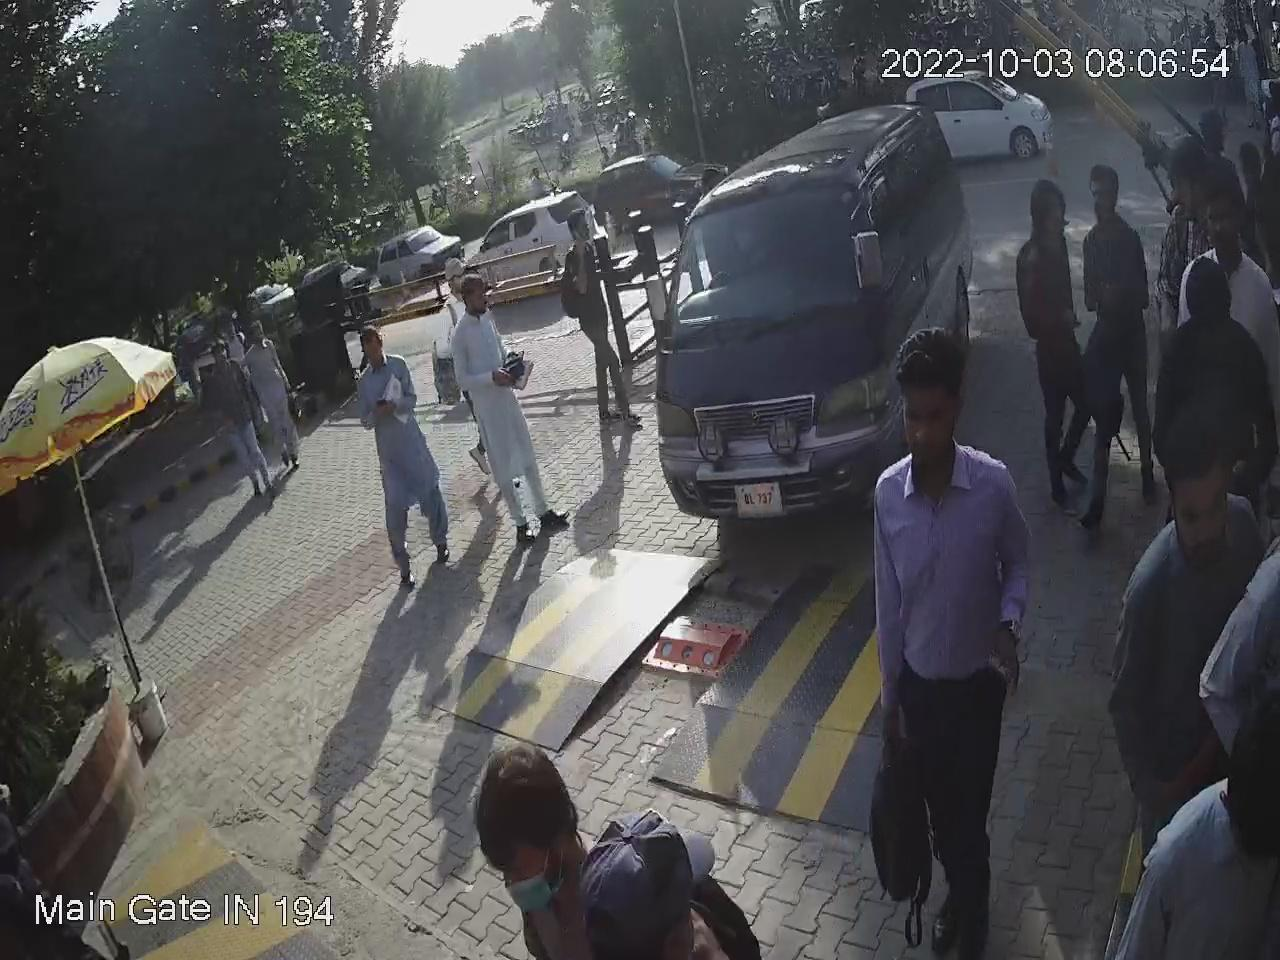windshield: (675, 177, 863, 343)
